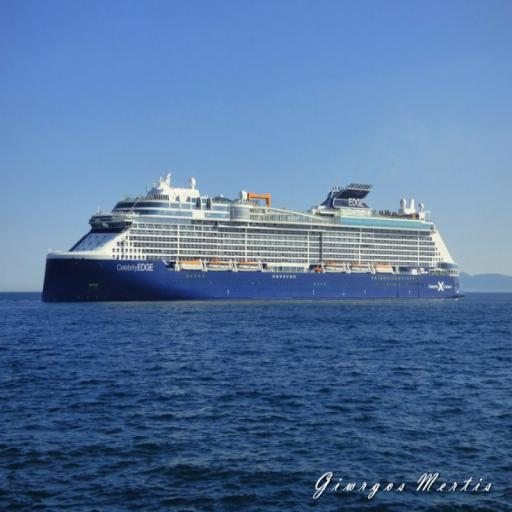cruises: (41, 168, 468, 308)
